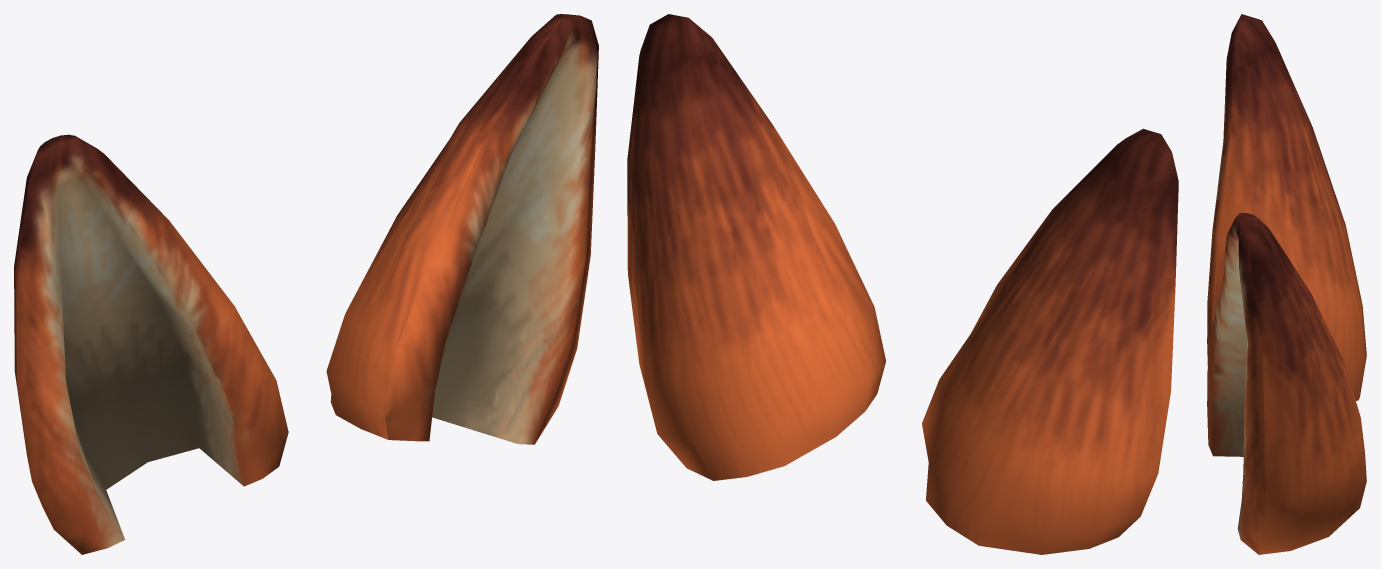
Rendered from fox.obj.
The picture shows the model from 3 angles, left to right: view 1: azimuth 30°, elevation 25°; view 2: azimuth 150°, elevation 25°; view 3: azimuth 270°, elevation 25°; orthographic projection. The views are drawn at different scales.
Visible parts, largest first — view 1: Handle1; view 2: Handle1; view 3: Handle1.
Part boxes in pixels (x1,y1,x2,y2): Handle1: (14, 14, 598, 554); Handle1: (627, 14, 1178, 554); Handle1: (1207, 14, 1366, 554).
Size of the model in its own units: 0.1852 by 0.1312 by 0.0545.
Materials: 1 (1 with a texture image).
